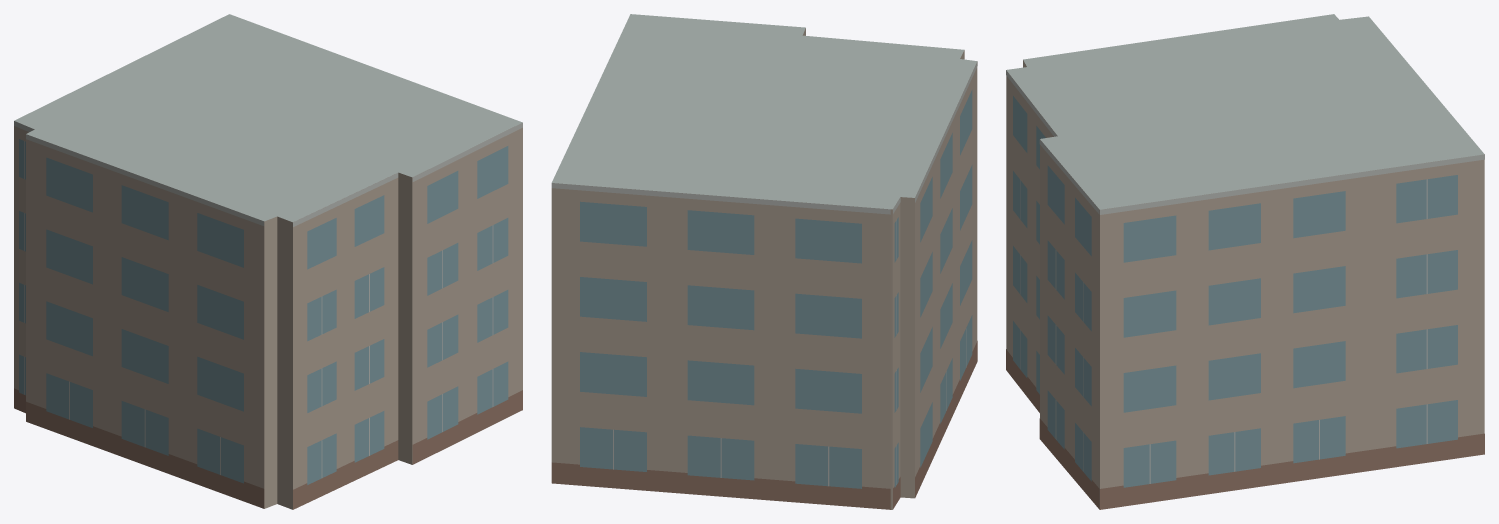
File: survey-upis-33023857.glb
3 renders of one model, left to right at view 1: azimuth 30°, elevation 25°; view 2: azimuth 150°, elevation 25°; view 3: azimuth 270°, elevation 25°, orthographic. The views are drawn at different scales.
Visible parts, largest first — view 1: survey-upis-33023857.tmp; view 2: survey-upis-33023857.tmp; view 3: survey-upis-33023857.tmp.
Part boxes in pixels (x1,y1,x2,y2): survey-upis-33023857.tmp: [14, 14, 522, 509]; survey-upis-33023857.tmp: [551, 14, 977, 509]; survey-upis-33023857.tmp: [1006, 14, 1484, 509].
Size of the model in its own units: 19.61 by 14 by 20.25.
